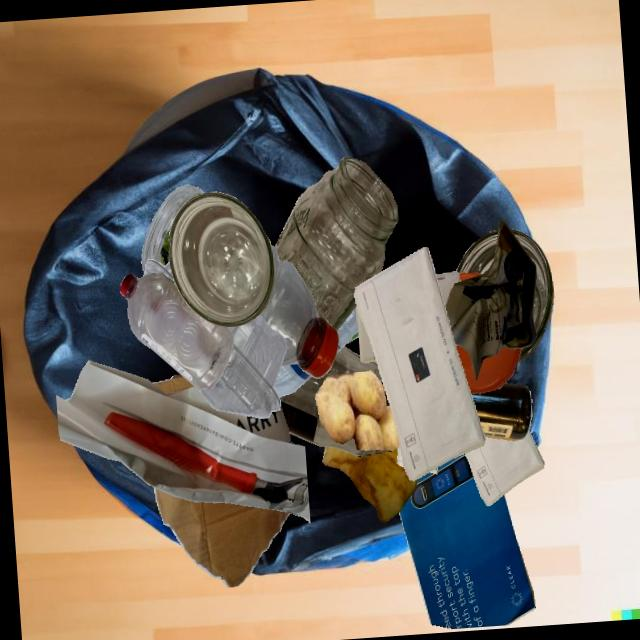biowaste: (322, 445, 418, 523), (314, 370, 399, 449)
cardboard: (153, 486, 289, 587)
glass: (274, 156, 397, 331), (168, 191, 274, 327), (278, 345, 394, 456), (509, 229, 553, 361), (470, 382, 531, 440), (456, 229, 498, 274)
paper: (56, 360, 310, 523), (354, 247, 485, 480), (398, 454, 535, 628), (445, 220, 536, 381), (373, 283, 455, 358), (464, 430, 544, 505), (397, 444, 403, 466), (429, 466, 437, 473)
plastic: (120, 273, 233, 389), (258, 244, 338, 378), (196, 314, 286, 418), (141, 184, 205, 274), (455, 345, 520, 393), (273, 363, 312, 397), (335, 305, 358, 354), (345, 330, 358, 343)
